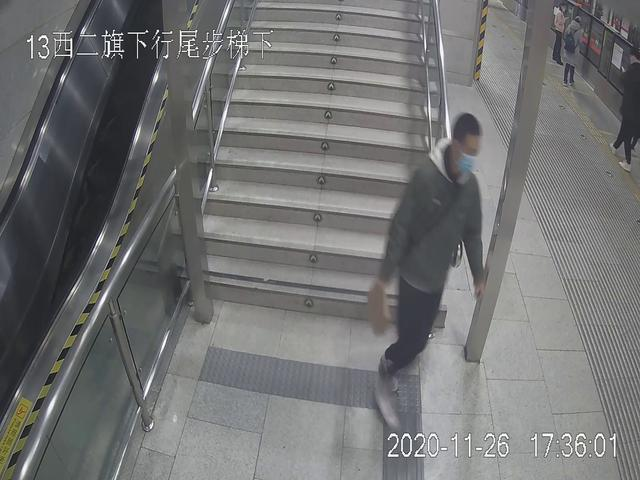person: (369, 114, 500, 432), (562, 12, 595, 94)
